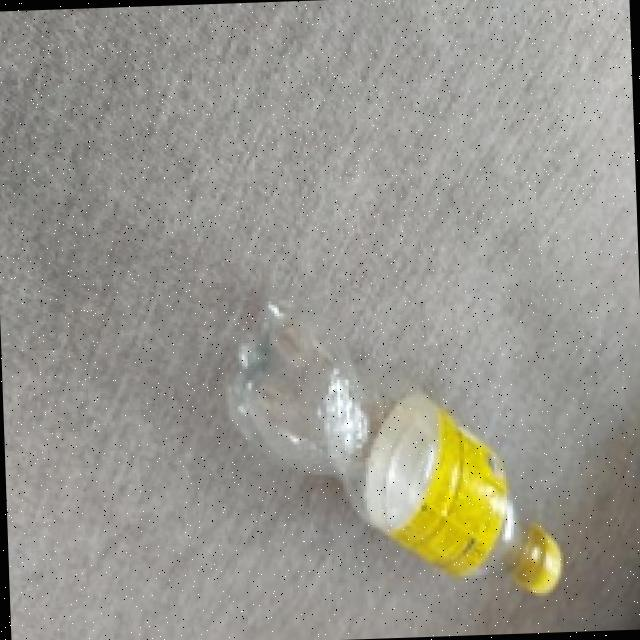bottle: (227, 319, 562, 613)
cap: (514, 540, 560, 603)
label: (390, 393, 514, 592)
